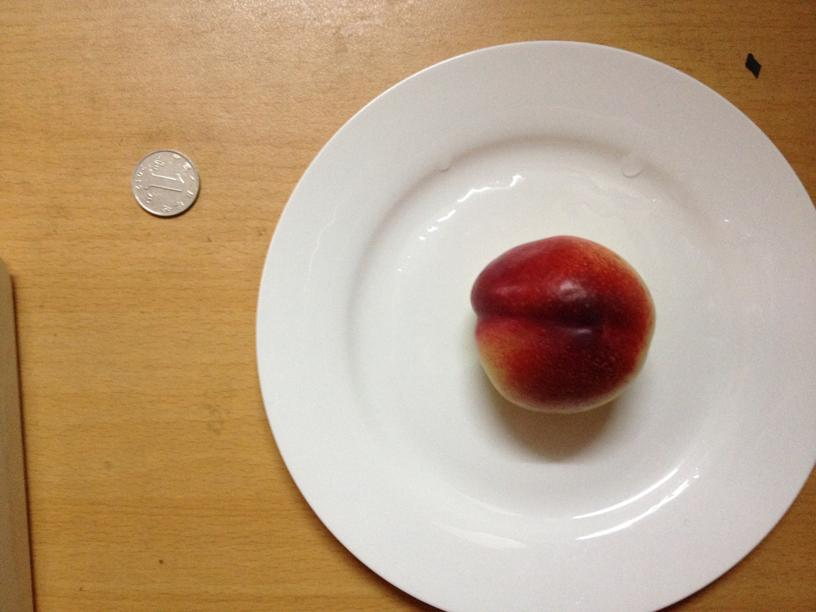coin: (128, 146, 202, 222)
peach: (463, 236, 656, 413)
